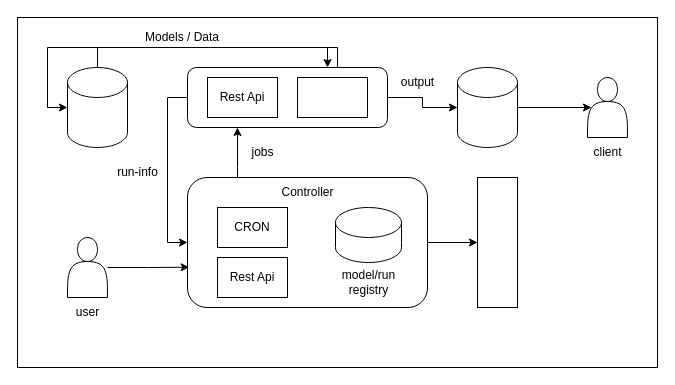
The diagram is 675 pixels wide and 385 high, and some of its shapes have lost their labels. Each missing label, with the centre of its shape:
"PUB SUB" belongs at (497,242).
"worker" belongs at (332,97).
